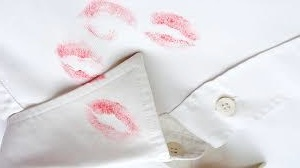lipstick: (88, 94, 138, 144), (147, 2, 200, 40), (86, 0, 138, 31), (49, 37, 98, 66), (58, 61, 109, 86), (146, 30, 193, 54), (90, 25, 119, 44)
